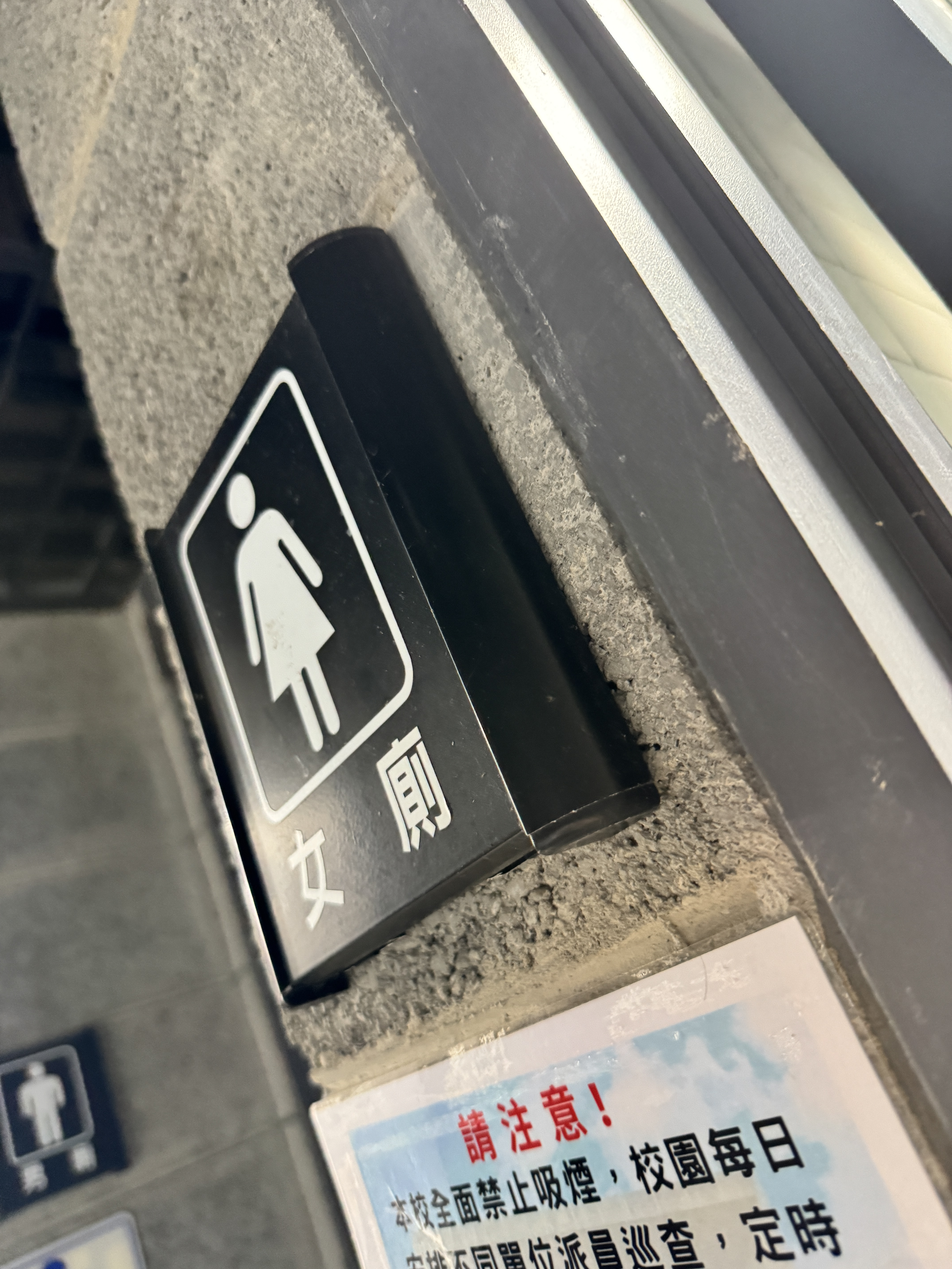toilet_sign: (132, 215, 664, 1004), (137, 248, 684, 1009)
